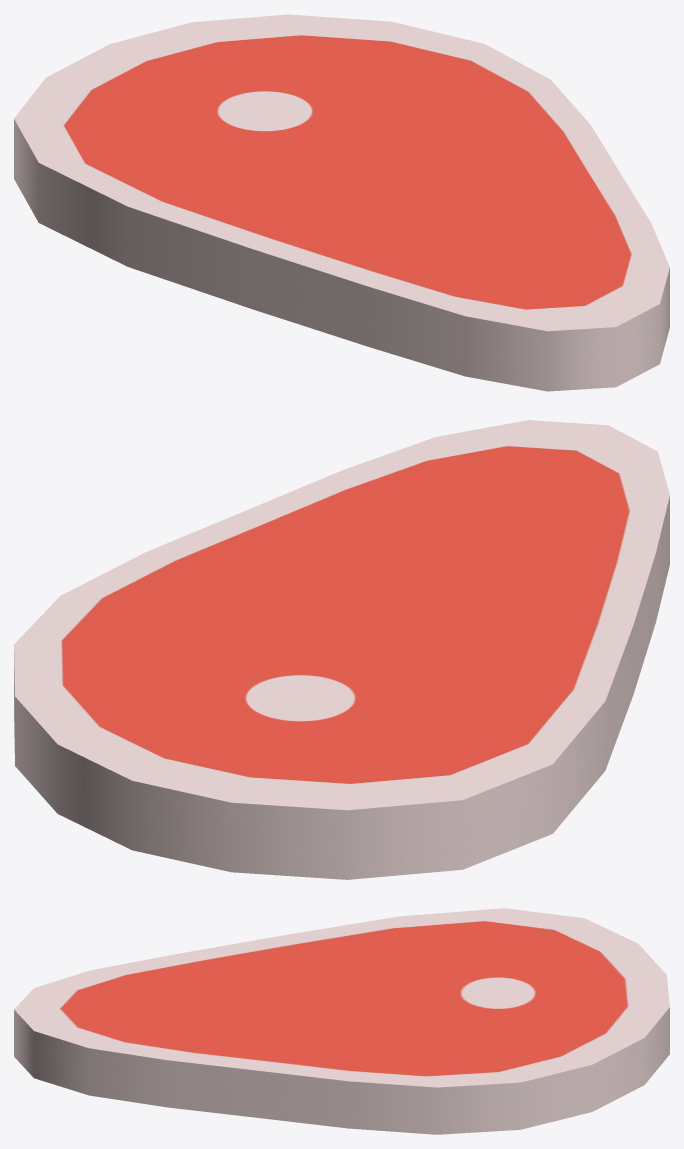
The model's file is Meat.fbx.
3 renders of one model, top to bottom at view 1: azimuth 30°, elevation 25°; view 2: azimuth 150°, elevation 25°; view 3: azimuth 270°, elevation 25°, orthographic. The views are drawn at different scales.
Parts seen in each view (by area): view 1: Meat; view 2: Meat; view 3: Meat.
Boxes of the visible parts, bbox=[...] form: Meat: bbox=[14, 14, 669, 391]; Meat: bbox=[14, 420, 669, 879]; Meat: bbox=[14, 908, 669, 1134].
Size of the model in its own units: 2.97 by 0.3643 by 4.59.
Materials: 1 (1 with a texture image).
